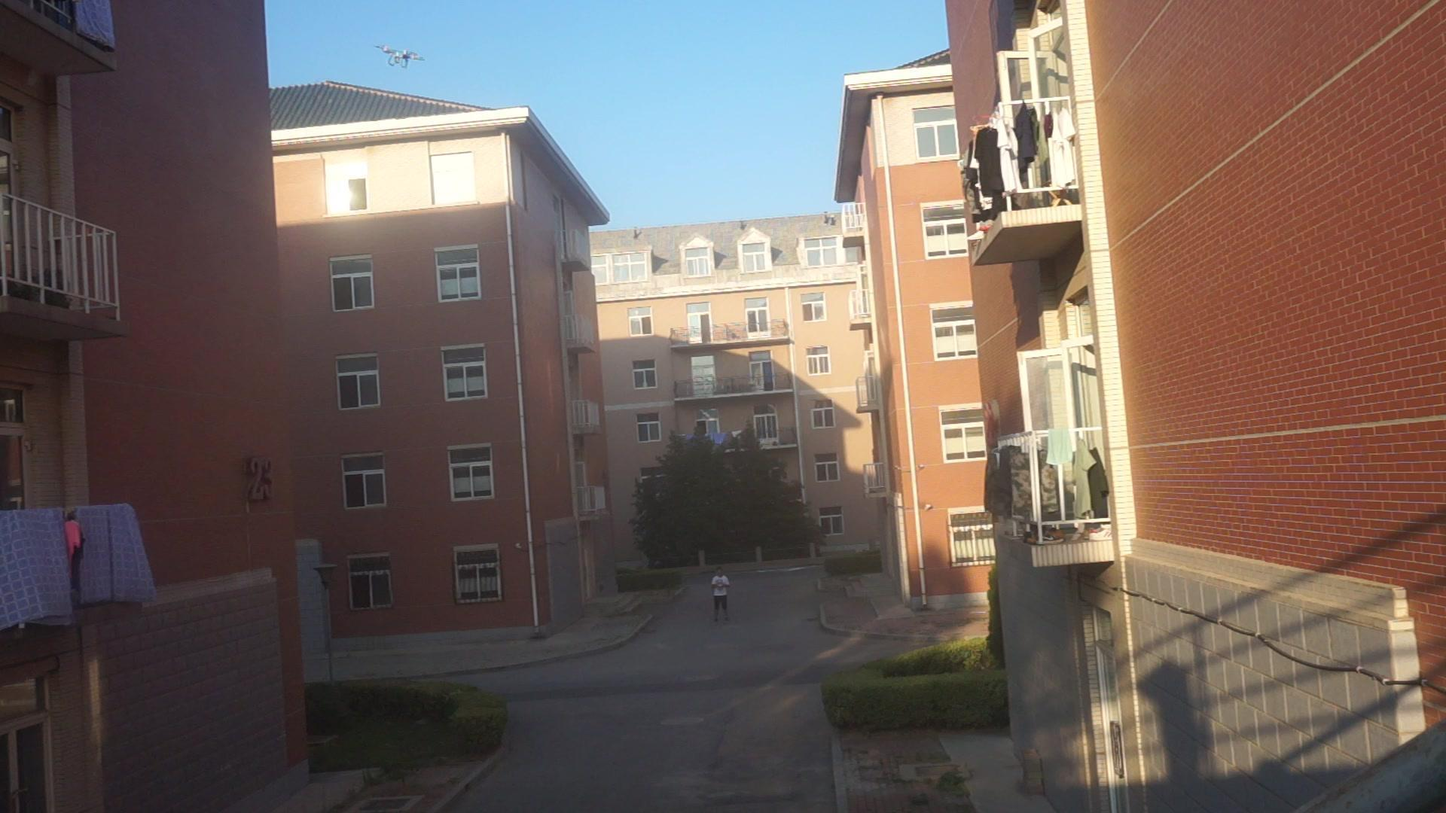UAV: (374, 44, 426, 71)
